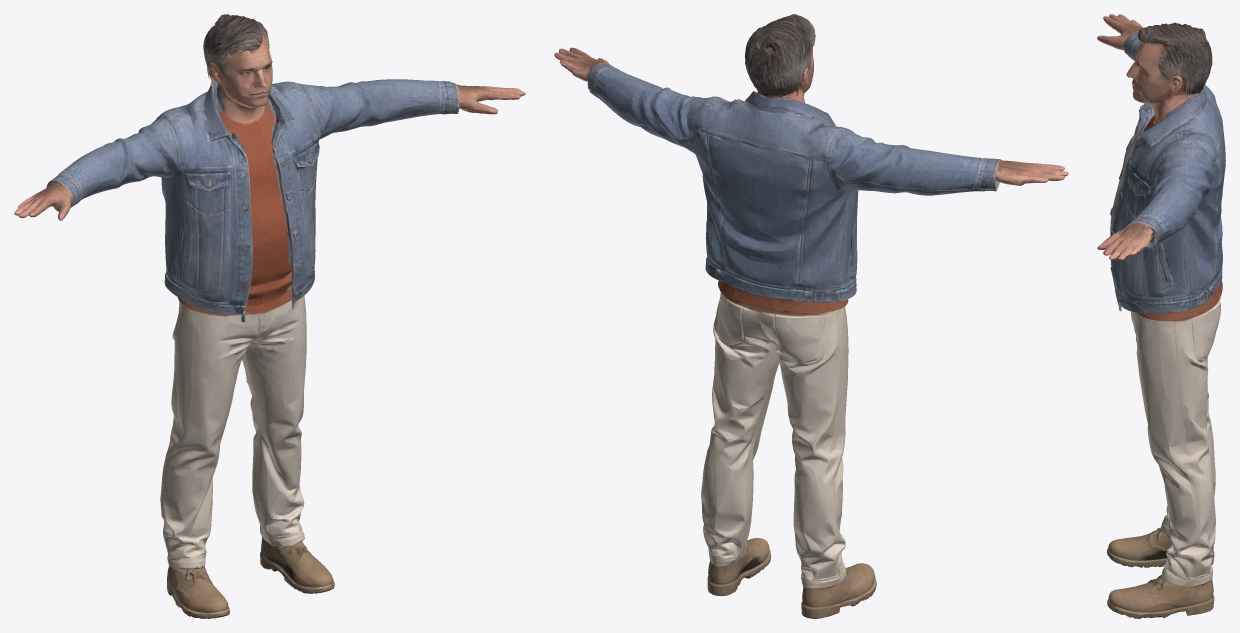
The model's file is character_n08_optimized.glb.
The picture shows the model from 3 angles, left to right: view 1: azimuth 30°, elevation 25°; view 2: azimuth 150°, elevation 25°; view 3: azimuth 270°, elevation 25°; orthographic projection.
Parts seen in each view (by area): view 1: output_unwrapped; view 2: output_unwrapped; view 3: output_unwrapped.
Boxes of the visible parts, <box> form: output_unwrapped: <box>14,14,525,618</box>; output_unwrapped: <box>554,14,1068,618</box>; output_unwrapped: <box>1097,14,1225,618</box>.
Size of the model in its own units: 1.78 by 1.9 by 0.3965.
1 material, 1 textured.
